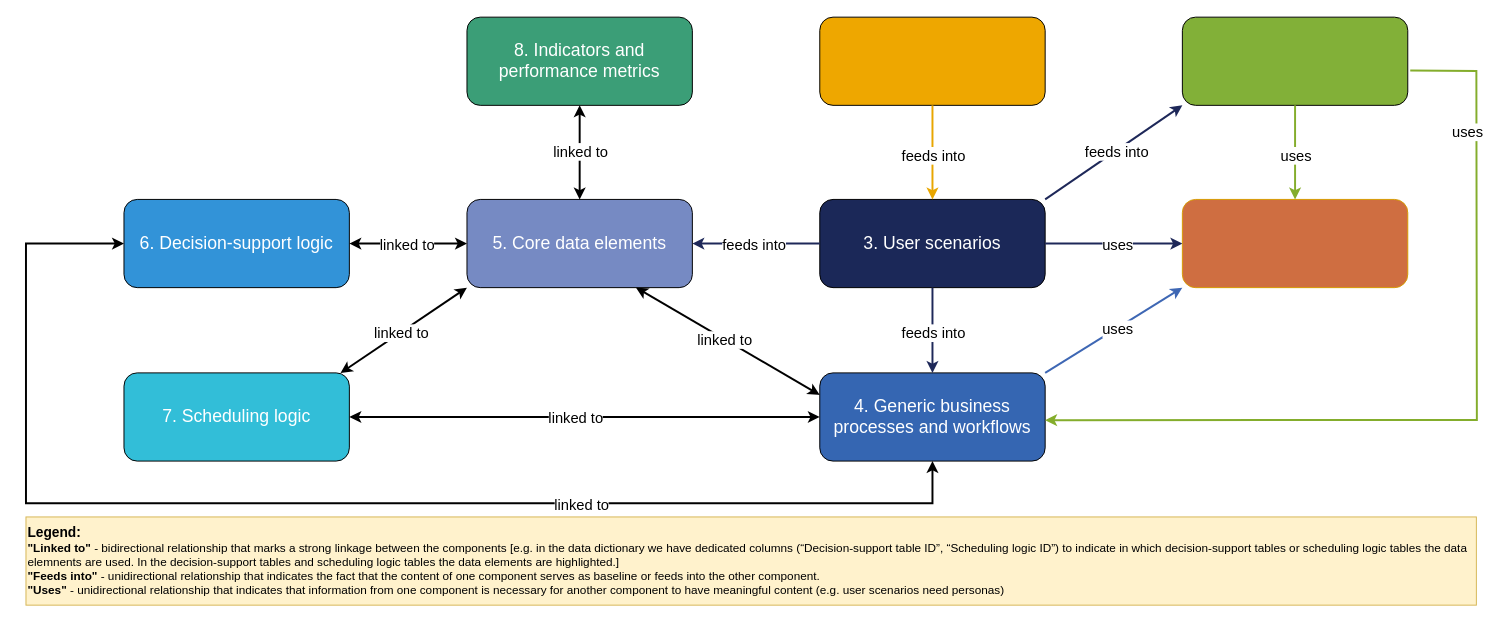
The diagram is 1502 pixels wide and 622 high, and some of its shapes have lost their labels. The box of each missing label's shape, as (x1, y1, x2, y2) in pixels:
1. Health interventions and recommendations: (819, 16, 1045, 105)
2. Generic personas: (1181, 198, 1408, 288)
9. High-level functional and non-functional requirements: (1181, 16, 1408, 105)
